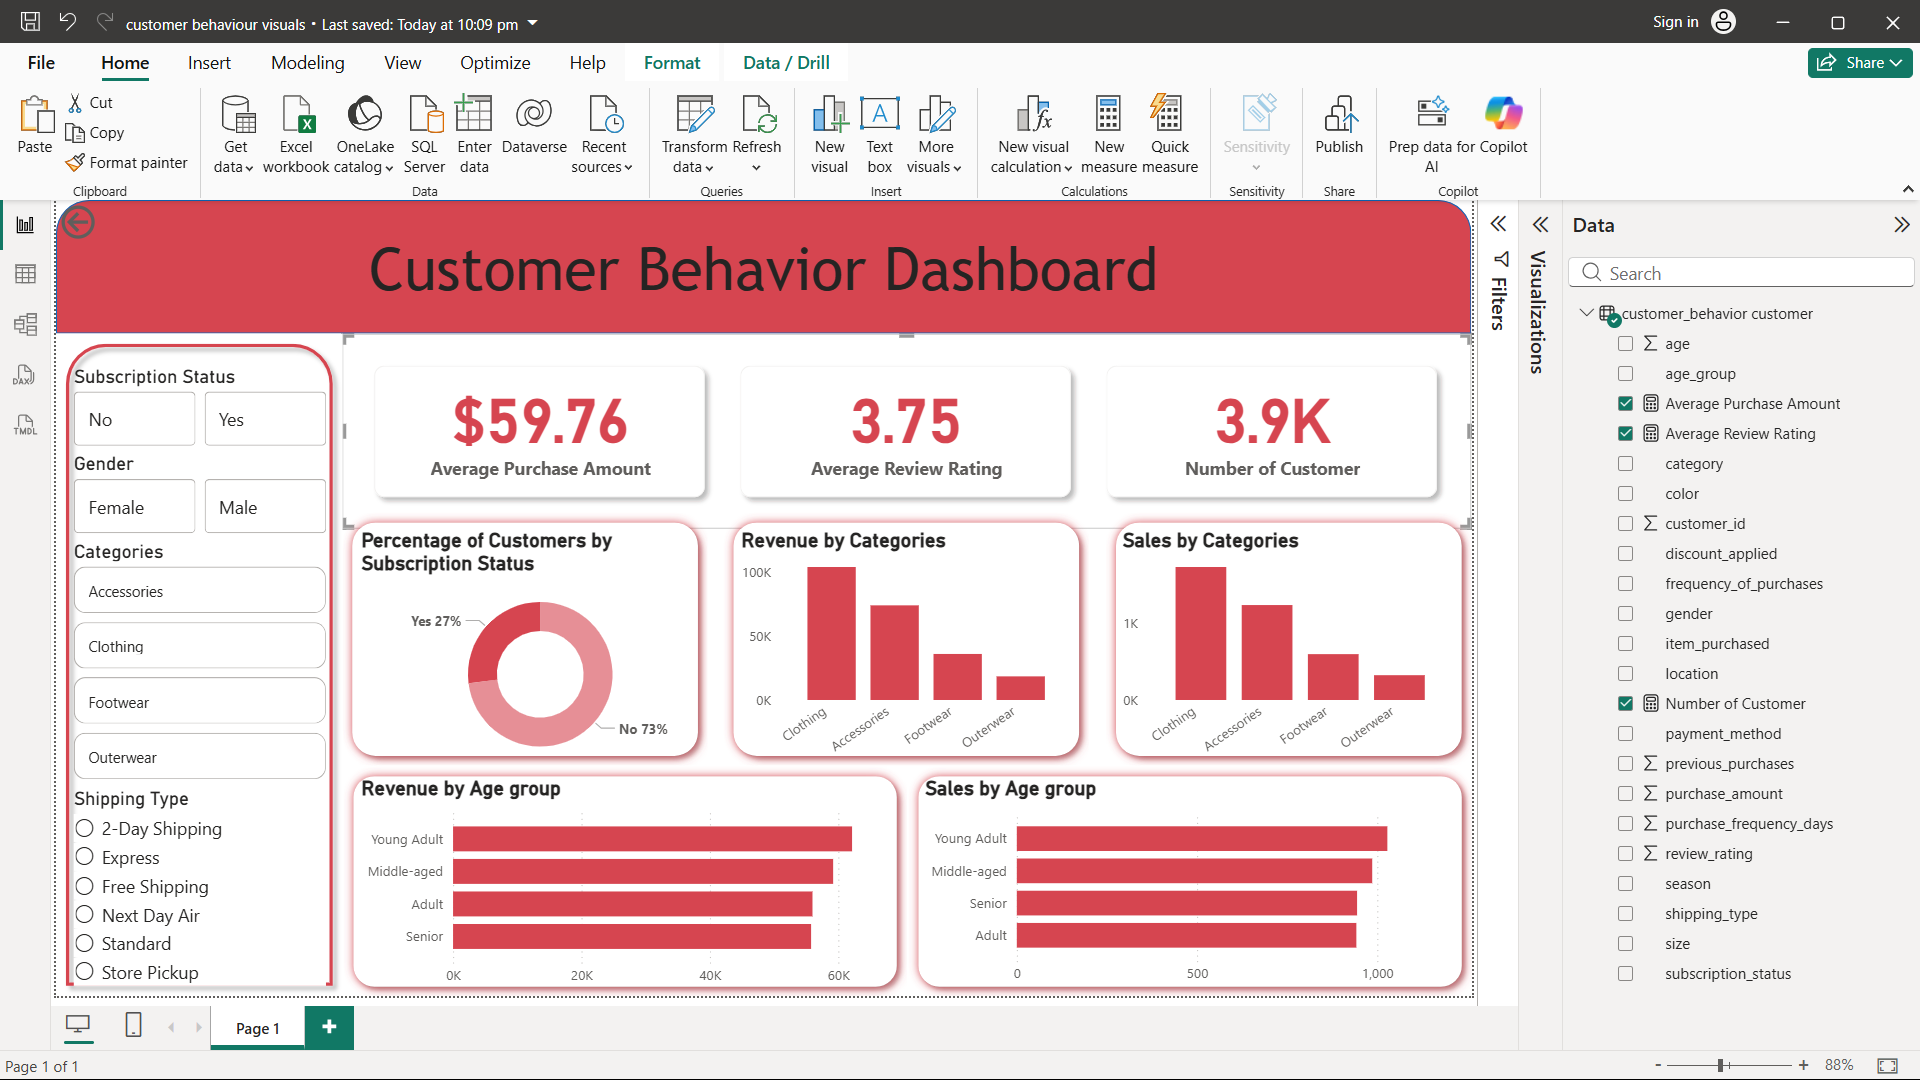

The dashboard page shown, as its layout file describes it:
{"tool":"powerbi","page":{"name":"Page 1","canvas":[1280,720],"ordinal":0},"visuals":[{"type":"cardVisual","fields":{"Data":["customer_behavior customer.Average Purchase Amount","customer_behavior customer.Average Review Rating","customer_behavior customer.Number of Customer"]},"box":[259.3,120.8,1020.9,177],"z":0},{"type":"shape","box":[0,0,1280.3,120.8],"z":1000},{"type":"textbox","box":[0,26.1,1280.3,123.5],"z":2000},{"type":"shape","box":[259.3,282.7,330.7,229.2],"z":3000},{"type":"donutChart","title":"Percentage of Customers by Subscription Status","fields":{"Category":["customer_behavior customer.subscription_status"],"Y":["Count(customer_behavior customer.customer_id)"]},"box":[270.9,297.7,333.7,222.1],"z":4000},{"type":"shape","box":[949.3,282.7,330.7,229.2],"z":5000},{"type":"shape","box":[604.3,282.7,330.7,229.2],"z":6000},{"type":"clusteredColumnChart","title":"Revenue by Categories","fields":{"Y":["Sum(customer_behavior customer.purchase_amount)"],"Category":["customer_behavior customer.category"]},"box":[615.1,297.7,309.3,222.1],"z":7000},{"type":"clusteredColumnChart","title":"Sales by Categories","fields":{"Y":["CountNonNull(customer_behavior customer.customer_id)"],"Category":["customer_behavior customer.category"]},"box":[960.5,297.7,309.3,222.1],"z":8000},{"type":"shape","box":[0,120.9,259.3,598.8],"z":9000},{"type":"actionButton","box":[0,0,100,40],"z":10000},{"type":"advancedSlicerVisual","title":"Subscription Status","fields":{"Values":["customer_behavior customer.subscription_status"]},"box":[11.6,148.8,238.4,79.1],"z":11000},{"type":"advancedSlicerVisual","title":"Gender","fields":{"Values":["customer_behavior customer.gender"]},"box":[11.6,227.9,238.4,79.1],"z":12000},{"type":"advancedSlicerVisual","title":"Categories","fields":{"Values":["customer_behavior customer.category"]},"box":[11.6,307,238.4,224.4],"z":13000},{"type":"listSlicer","fields":{"Values":["customer_behavior customer.shipping_type"]},"box":[11.6,531.4,238.4,188.4],"z":14000},{"type":"shape","box":[259.9,512.1,509.5,208.4],"z":14003},{"type":"clusteredBarChart","title":"Revenue by Age group","fields":{"Y":["Sum(customer_behavior customer.purchase_amount)"],"Category":["customer_behavior customer.age_group"]},"box":[271.5,521.1,509.5,198.2],"z":14004},{"type":"shape","box":[770.7,512.1,509.5,208.4],"z":14005},{"type":"clusteredBarChart","title":"Sales by Age group","fields":{"Y":["CountNonNull(customer_behavior customer.customer_id)"],"Category":["customer_behavior customer.age_group"]},"box":[781,521.1,499.2,196.9],"z":14006}]}

Visuals, with their boxes on the page's 1280x720 design canvas (x1, y1, x2, y2). These are canvas units, not pixel positions in the 1920x1080 screenshot, which may show the page scaled, cropped or inside an application window:
cardVisual - customer_behavior customer.Average Purchase Amount x customer_behavior customer.Average Review Rating: crop(259, 121, 1280, 298)
shape: crop(0, 0, 1280, 121)
textbox: crop(0, 26, 1280, 150)
shape: crop(259, 283, 590, 512)
"Percentage of Customers by Subscription Status" donutChart: crop(271, 298, 605, 520)
shape: crop(949, 283, 1280, 512)
shape: crop(604, 283, 935, 512)
"Revenue by Categories" clusteredColumnChart: crop(615, 298, 924, 520)
"Sales by Categories" clusteredColumnChart: crop(960, 298, 1270, 520)
shape: crop(0, 121, 259, 720)
actionButton: crop(0, 0, 100, 40)
"Subscription Status" advancedSlicerVisual: crop(12, 149, 250, 228)
"Gender" advancedSlicerVisual: crop(12, 228, 250, 307)
"Categories" advancedSlicerVisual: crop(12, 307, 250, 531)
listSlicer - customer_behavior customer.shipping_type: crop(12, 531, 250, 720)
shape: crop(260, 512, 769, 720)
"Revenue by Age group" clusteredBarChart: crop(272, 521, 781, 719)
shape: crop(771, 512, 1280, 720)
"Sales by Age group" clusteredBarChart: crop(781, 521, 1280, 718)
